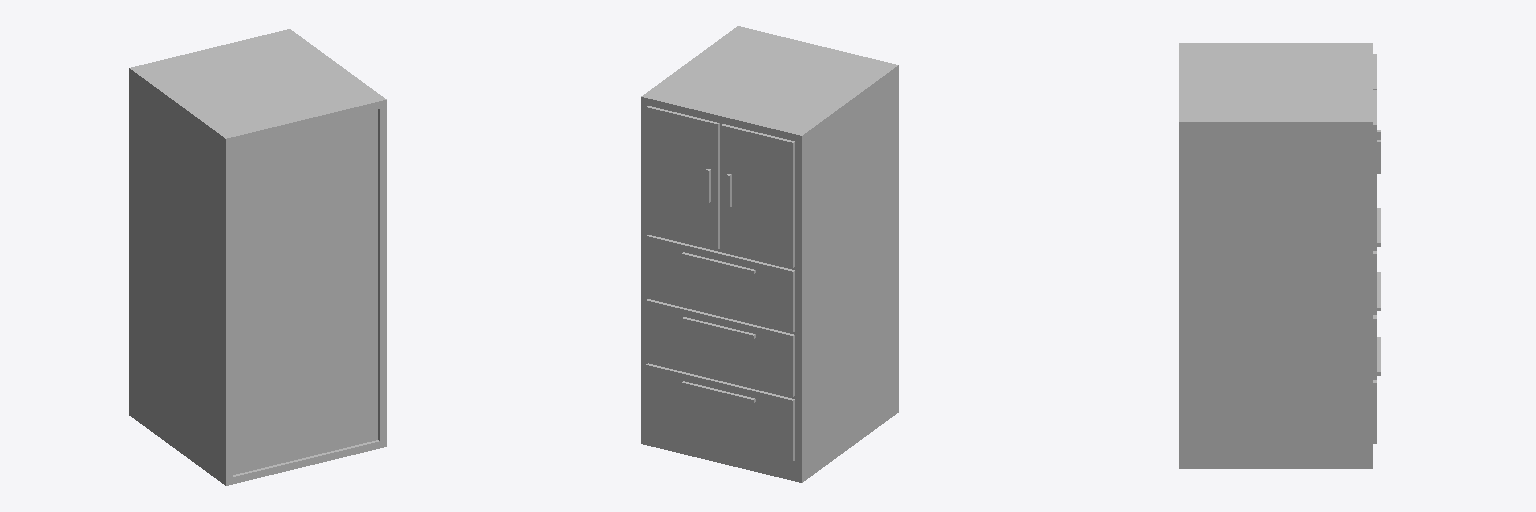
The model's file is cupboard2.obj.
3 renders of one model, left to right at view 1: azimuth 30°, elevation 25°; view 2: azimuth 150°, elevation 25°; view 3: azimuth 270°, elevation 25°, orthographic.
Parts seen in each view (by area): view 1: Untitled.001; view 2: Untitled.001; view 3: Untitled.001.
Part boxes in pixels (x1,y1,x2,y2): Untitled.001: (129, 29, 386, 485); Untitled.001: (641, 26, 898, 482); Untitled.001: (1179, 43, 1380, 468).
Bounding box in the file's own units: 4.7 × 9.7 × 5.1.